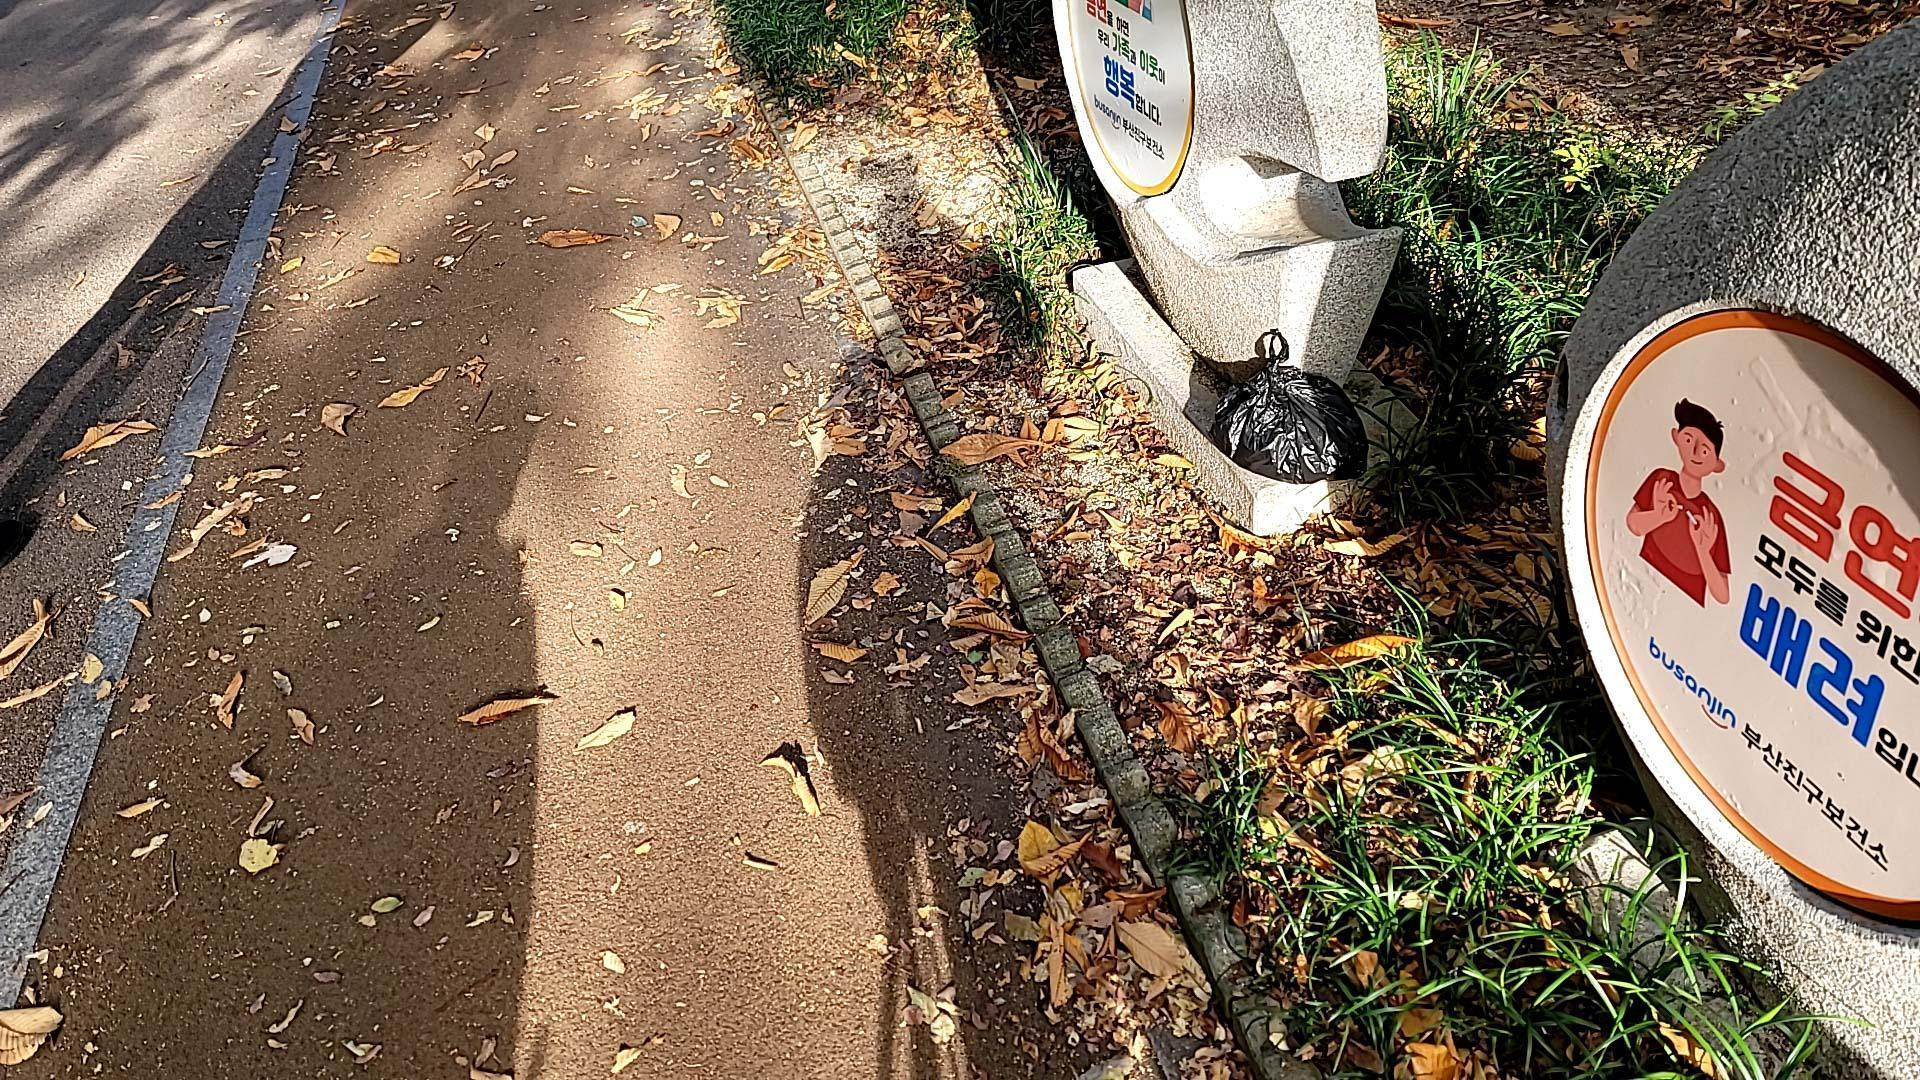black_bag: (1197, 322, 1381, 497)
